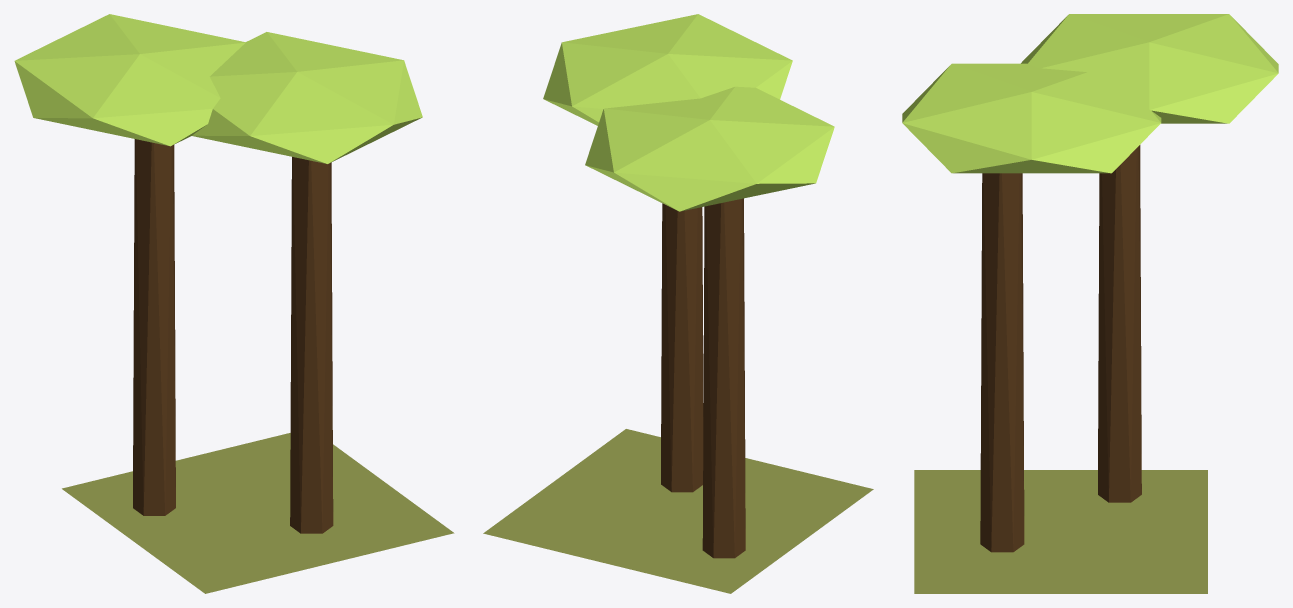
The model's file is forest02.glb.
3 renders of one model, left to right at view 1: azimuth 30°, elevation 25°; view 2: azimuth 150°, elevation 25°; view 3: azimuth 270°, elevation 25°, orthographic. The views are drawn at different scales.
Visible parts, largest first — view 1: tree01-col.002, tree01-col.003, forest02-col; view 2: tree01-col.003, tree01-col.002, forest02-col; view 3: tree01-col.002, tree01-col.003, forest02-col.
Boxes of the visible parts, box(x1,y1,x2,y2) form: tree01-col.002: box(192, 32, 422, 533); tree01-col.003: box(14, 14, 245, 515); forest02-col: box(62, 433, 454, 593); tree01-col.003: box(585, 86, 834, 558); tree01-col.002: box(543, 14, 792, 492); forest02-col: box(483, 429, 873, 593); tree01-col.002: box(902, 63, 1161, 552); tree01-col.003: box(1021, 14, 1278, 502); forest02-col: box(914, 470, 1207, 593).
Bounding box in the file's own units: 12.57 × 17 × 12.83.
